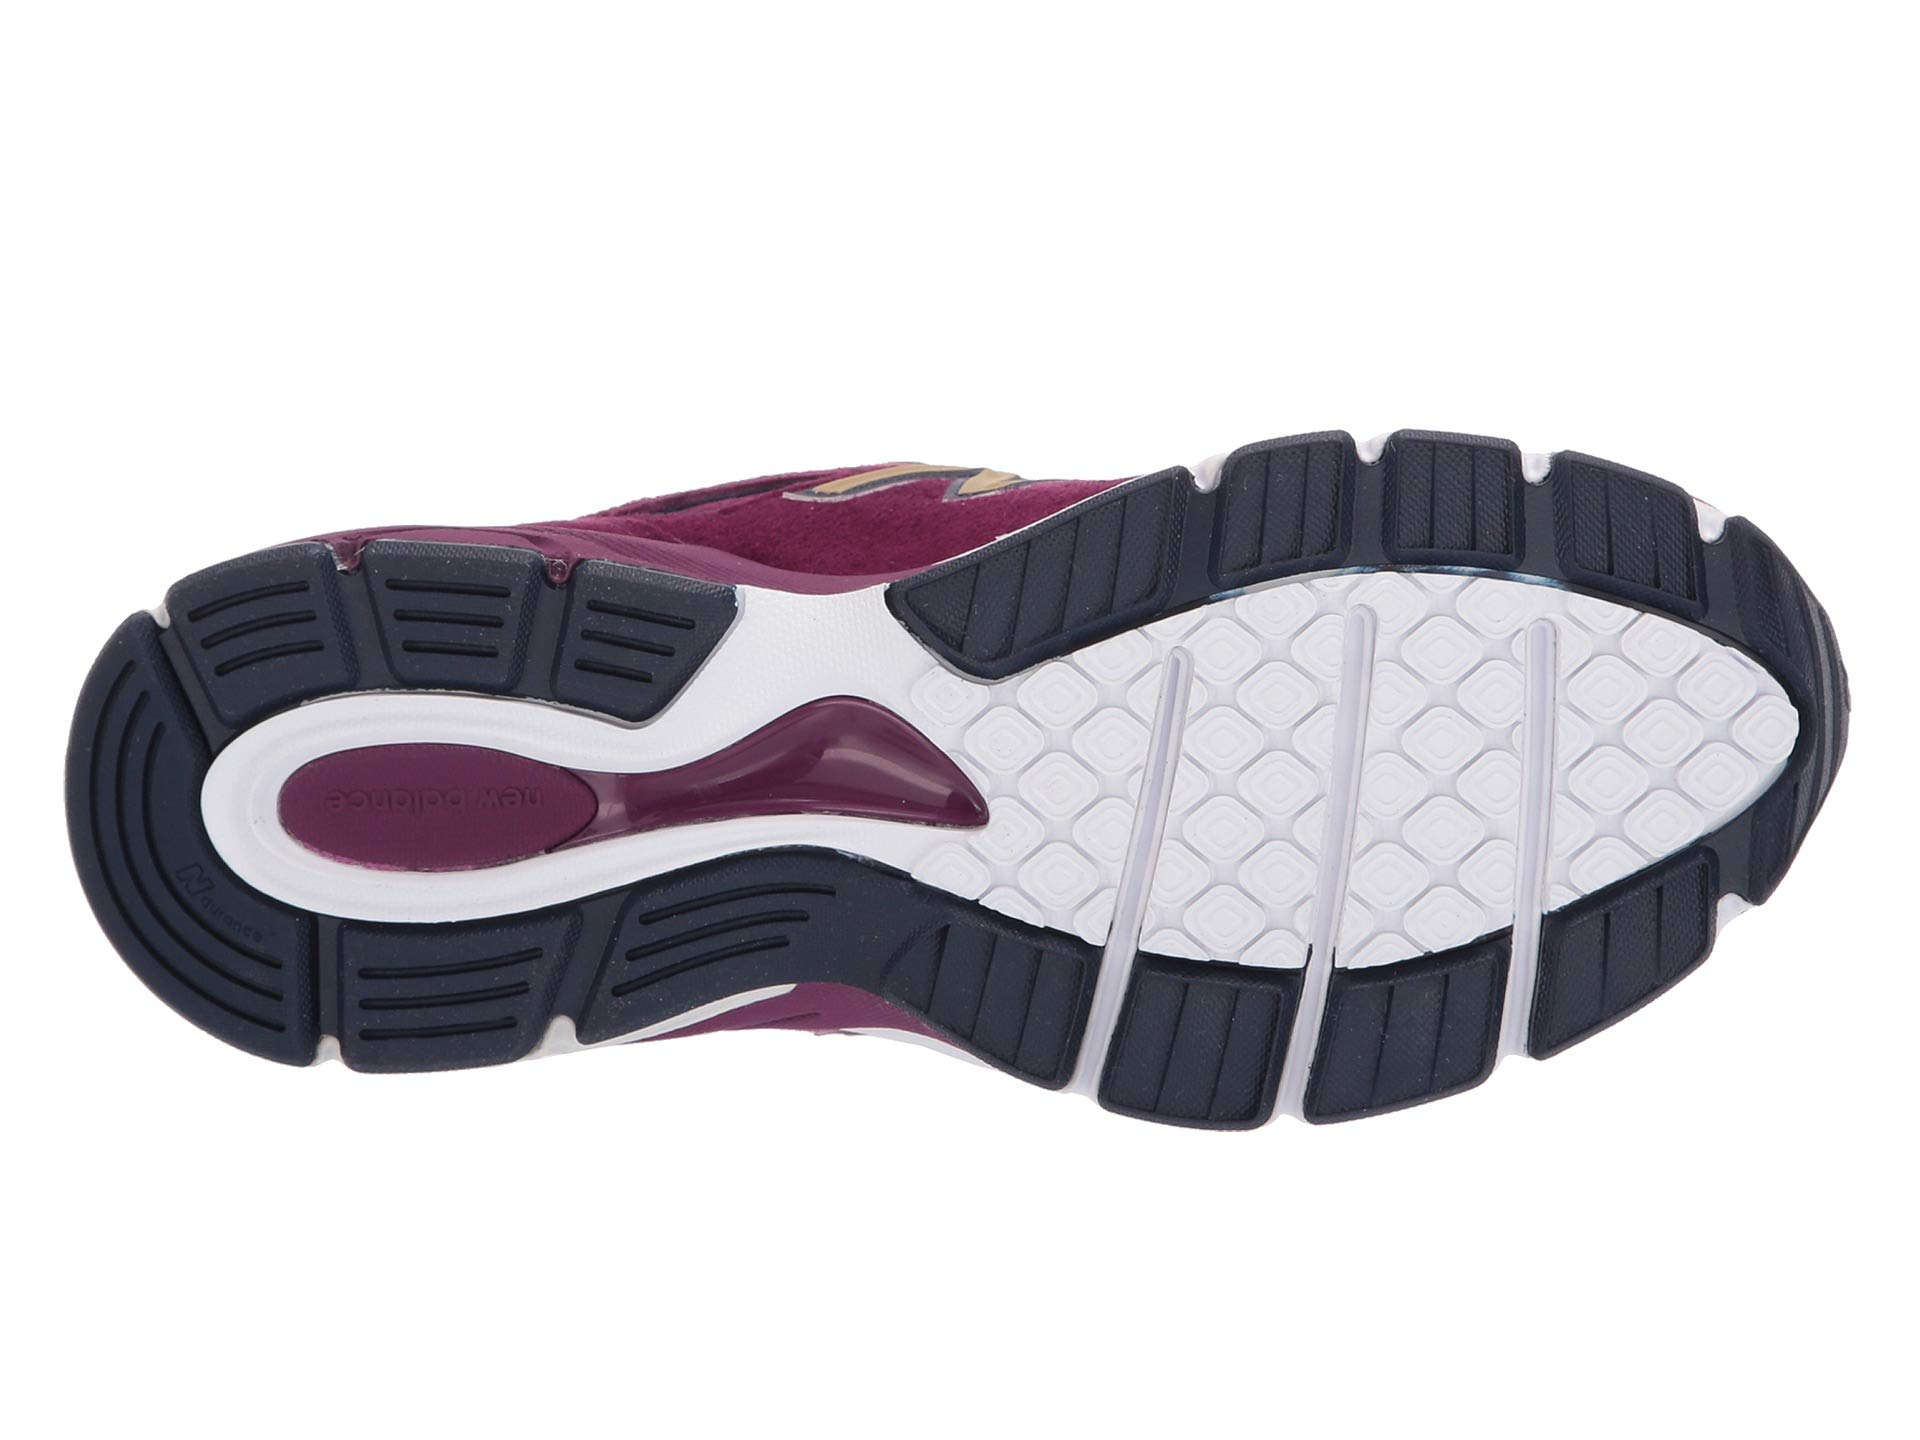circle: (249, 738, 611, 867)
line: (138, 552, 351, 728), (615, 874, 877, 995), (358, 532, 546, 685), (345, 938, 552, 1050)
quad: (1138, 576, 1349, 961), (1355, 594, 1528, 938), (249, 738, 611, 867), (1544, 622, 1779, 790), (138, 552, 351, 728), (1547, 841, 1720, 1050), (1311, 947, 1524, 1116), (996, 653, 1117, 926), (1099, 970, 1315, 1116), (358, 532, 546, 685), (1539, 449, 1702, 614), (1217, 422, 1355, 582), (1380, 442, 1522, 561)
text: (249, 738, 611, 867)
triangle: (883, 914, 962, 1019), (912, 551, 978, 658)
